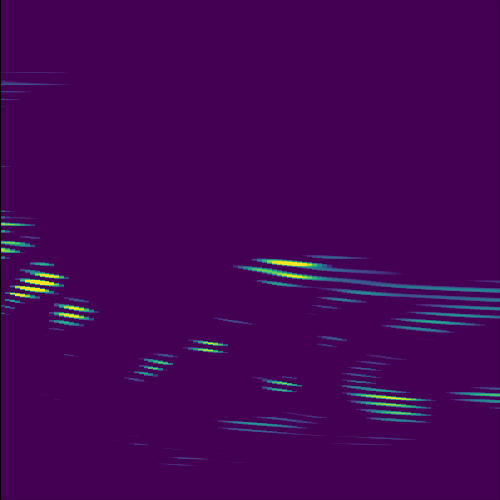semblance: (2, 265, 68, 307), (50, 294, 101, 331)
